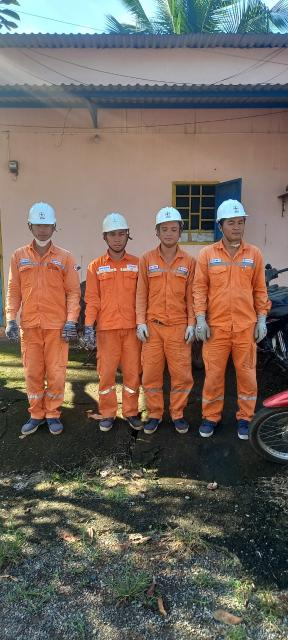gloves: (0, 317, 32, 348), (52, 316, 84, 344), (246, 315, 271, 345), (74, 321, 97, 351), (190, 311, 210, 342), (127, 320, 151, 342), (180, 321, 198, 344)
helmet: (19, 191, 61, 236), (205, 192, 251, 224), (145, 203, 193, 230), (97, 207, 136, 236)
shoes: (17, 413, 42, 438), (38, 417, 63, 440), (234, 414, 253, 444), (140, 408, 159, 437), (91, 412, 114, 434), (197, 417, 216, 441), (124, 410, 141, 432), (172, 413, 189, 434)
